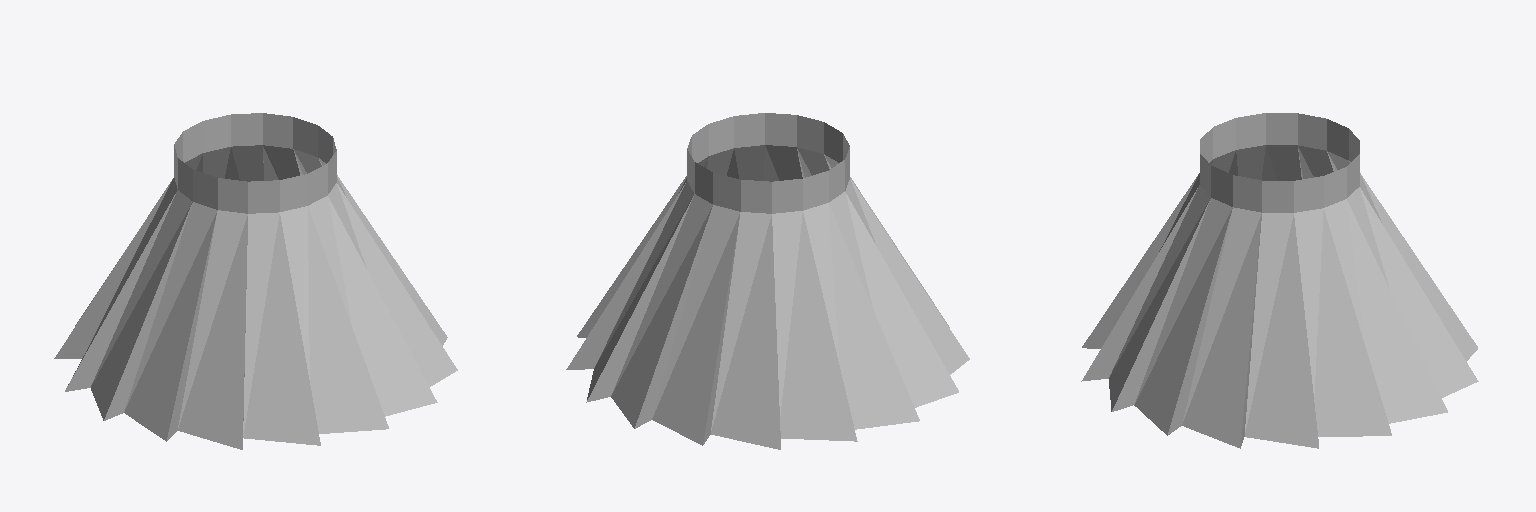
Rendered from skirt.obj.
3 views of the same model, side by side, from view 1: azimuth 30°, elevation 25°; view 2: azimuth 150°, elevation 25°; view 3: azimuth 270°, elevation 25° (orthographic).
Visible parts, largest first — view 1: LSKIRT.001; view 2: LSKIRT.001; view 3: LSKIRT.001.
Boxes of the visible parts, box(x1,y1,x2,y2) form: LSKIRT.001: box(54, 113, 457, 449); LSKIRT.001: box(566, 113, 969, 449); LSKIRT.001: box(1081, 113, 1478, 448).
Bounding box in the file's own units: 2.63 × 1.59 × 2.63.